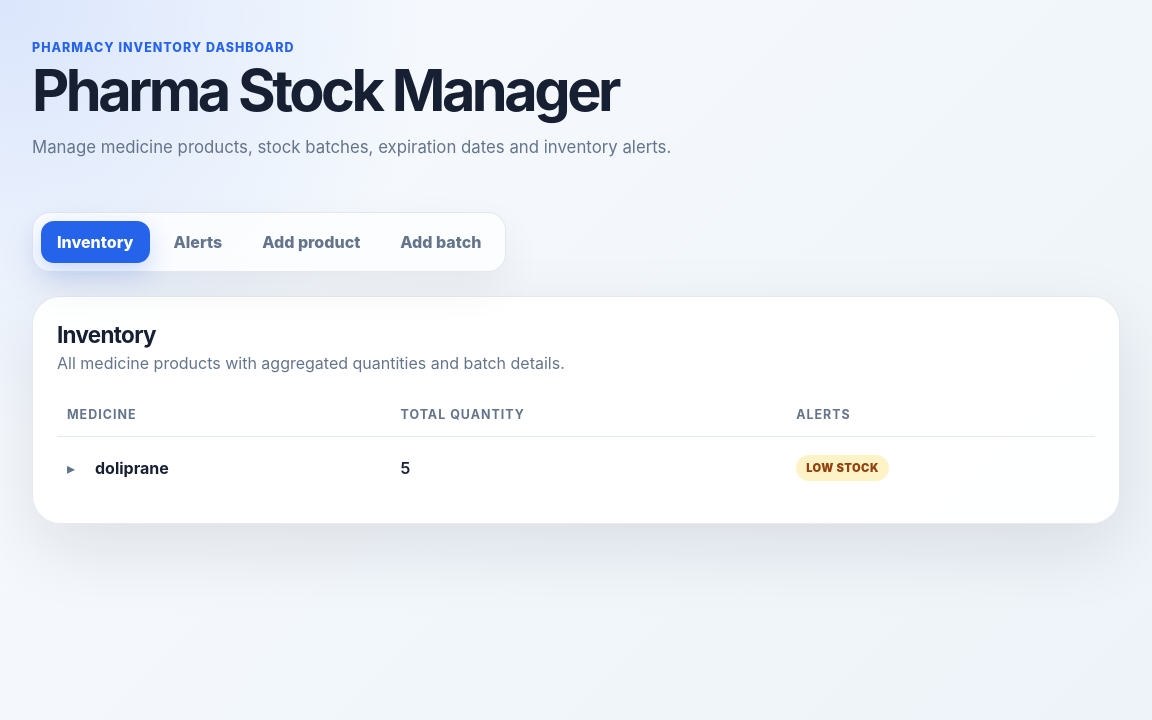
Test case: App › should switch to add batch tab
This screenshot has width=1152, height=720.
What coordinates should you click on to do the following:
click the button "Add batch"
I would click on:
 (441, 242)
Its box is [384, 221, 497, 263].
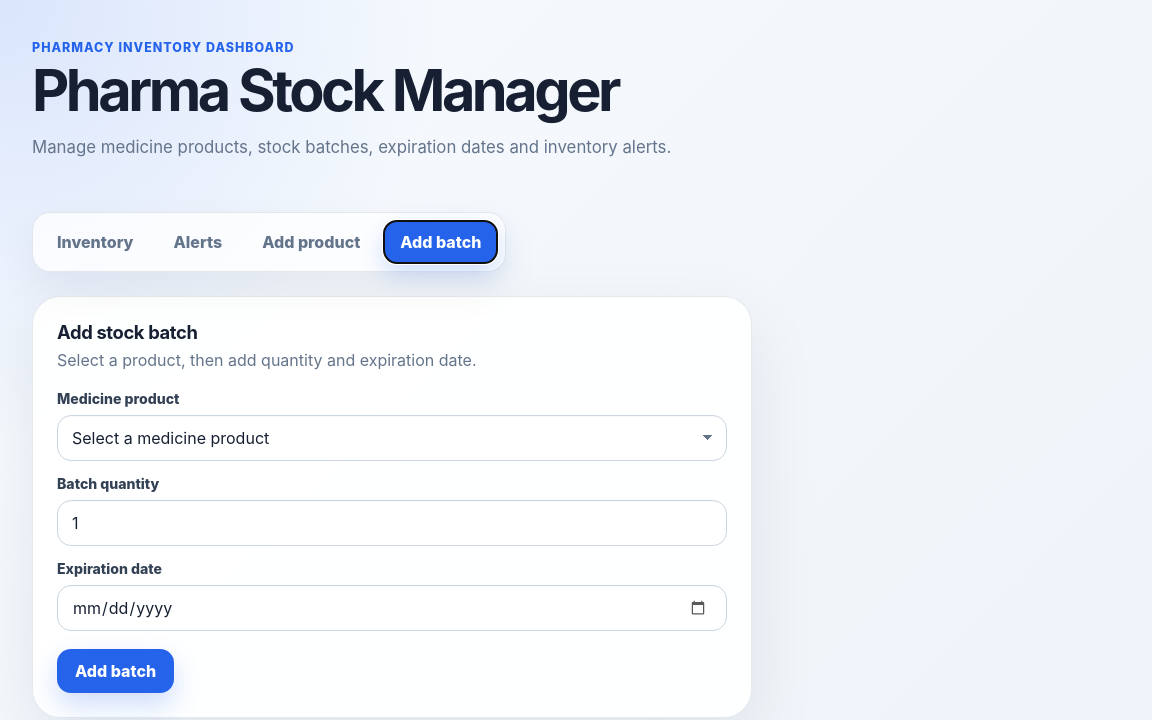
Expected: the heading "Add stock batch" is shown, [57, 321, 198, 343]
Expected: the dropdown labelled "Medicine product" is shown, [57, 415, 727, 461]
